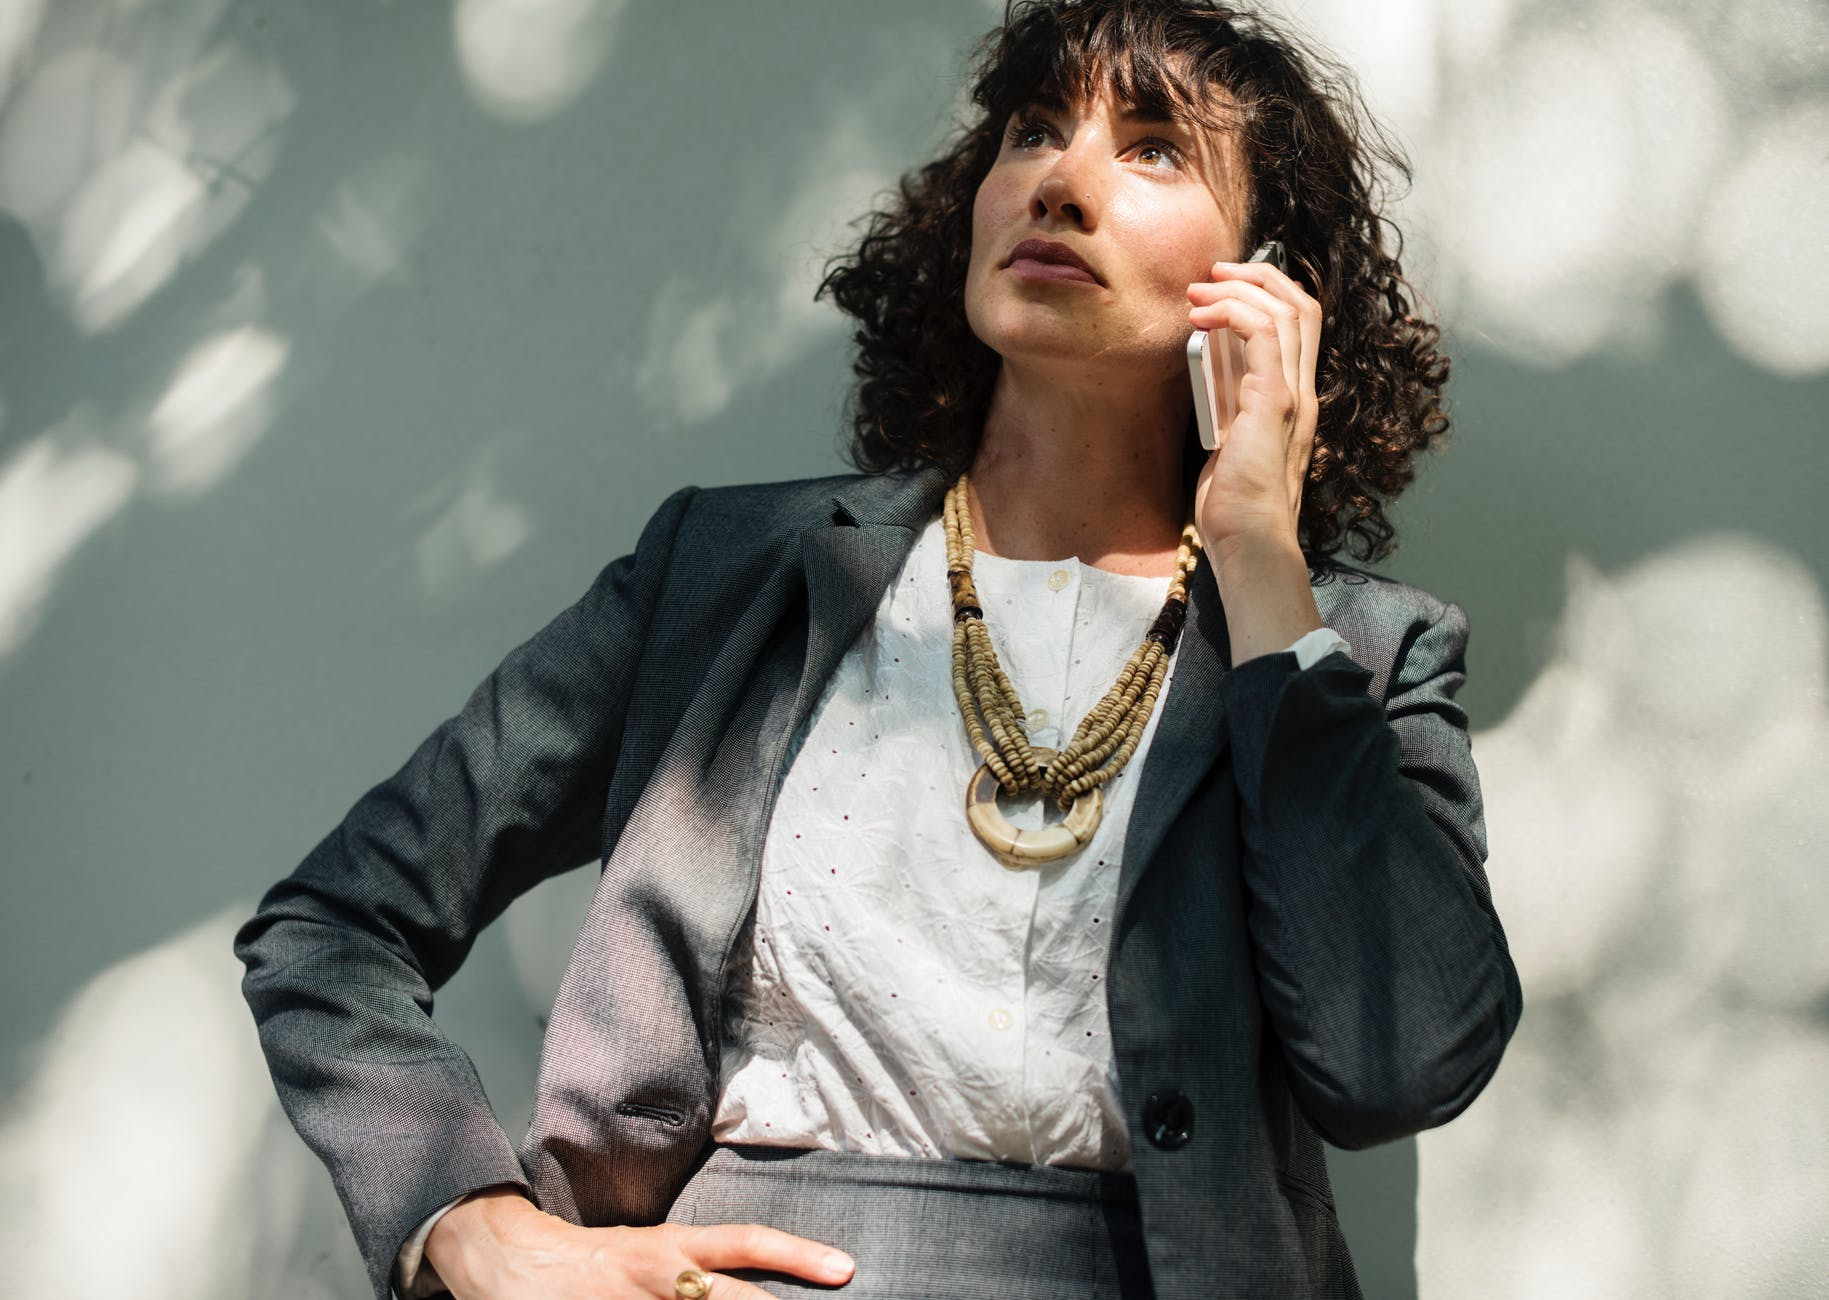phone: (1176, 224, 1292, 505)
talk: (955, 91, 1323, 598)
